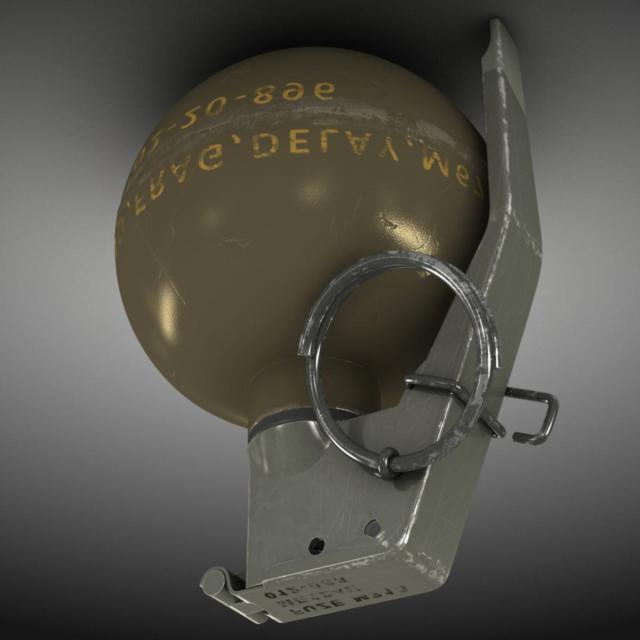grenade: (115, 21, 557, 627)
